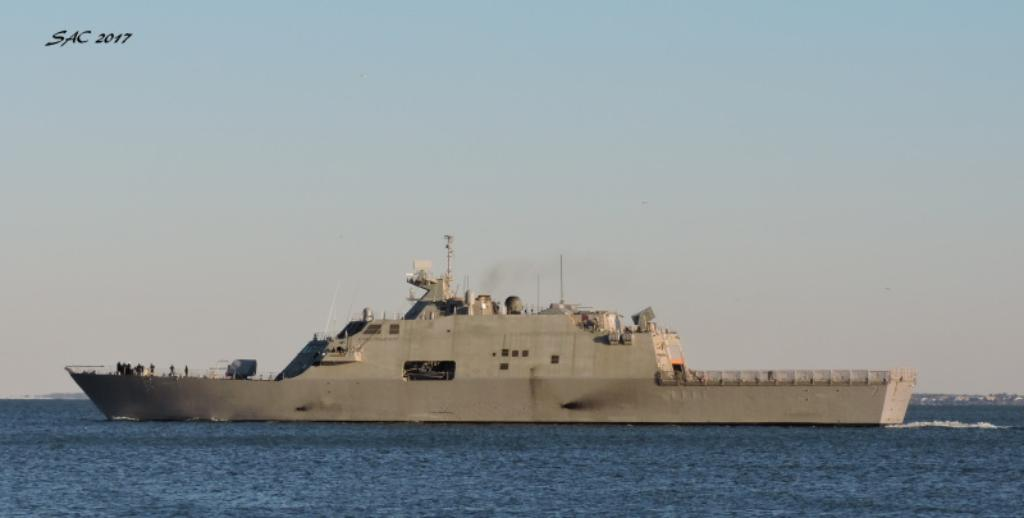Warship: (64, 227, 920, 429)
